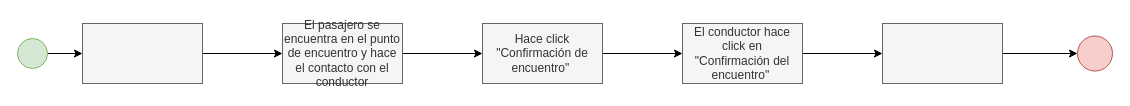
This 1130x106 diagram has some shape labels left out. The centre of each missing label's shape, as x and y in pixels:
La reserva cambia a "En servicio": pixel 942 53
La reserva se encuentra en "Asignada": pixel 142 53
